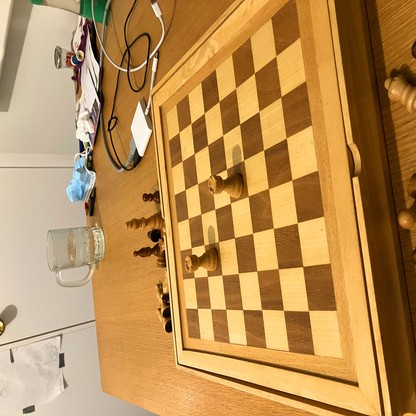bishop_black: (133, 244, 161, 257)
king_white: (124, 212, 166, 232)
pawn_black: (142, 192, 160, 203)
rock_white: (208, 170, 244, 199), (185, 248, 220, 271)
